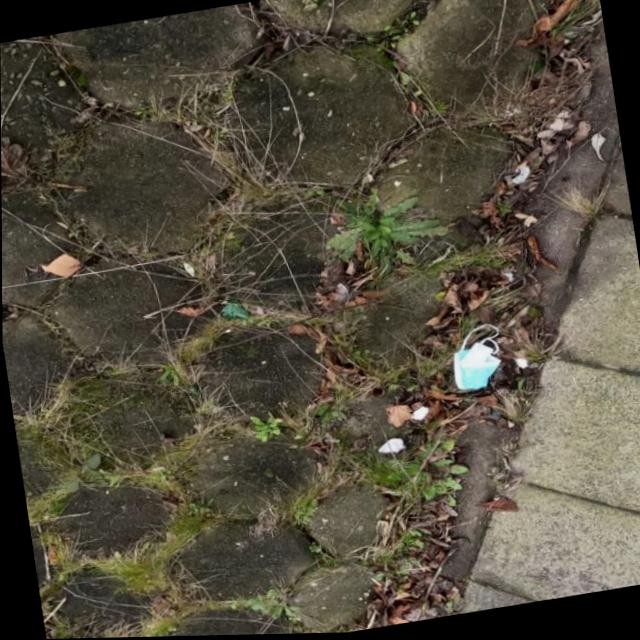Mask: (444, 322, 509, 398)
Paper: (375, 438, 408, 459), (406, 406, 432, 423)
Plastic: (216, 297, 250, 325)
